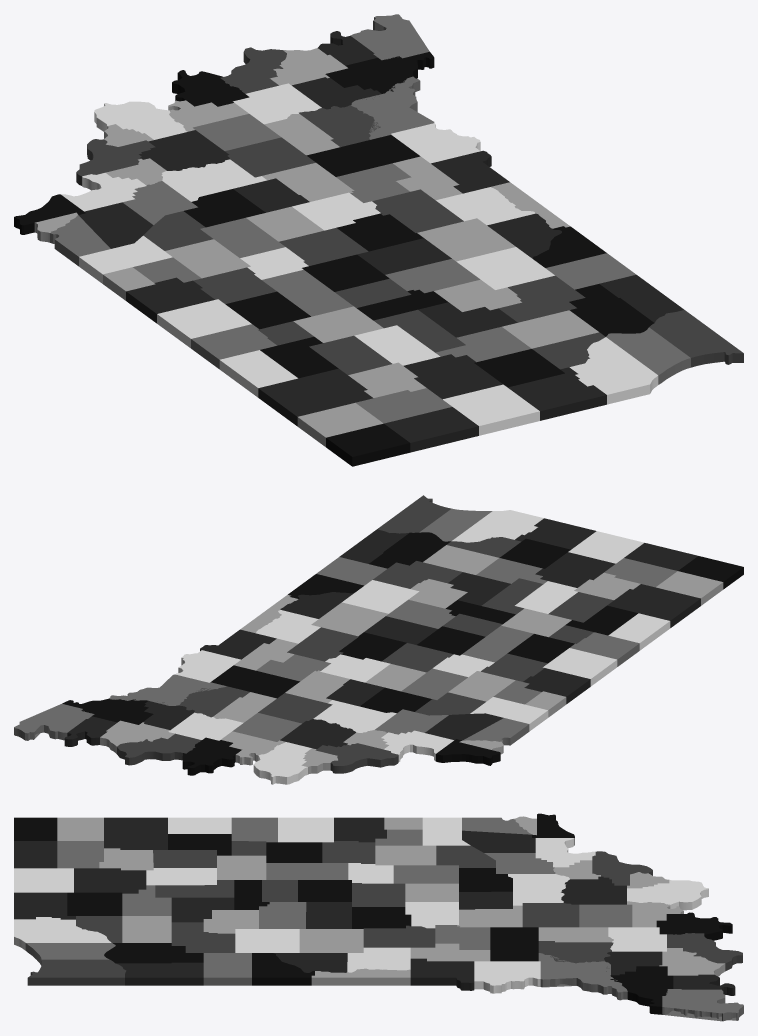
File: Indiana_Counties_3D.fbx
3 renders of one model, top to bottom at view 1: azimuth 30°, elevation 25°; view 2: azimuth 150°, elevation 25°; view 3: azimuth 270°, elevation 25°, orthographic. The views are drawn at different scales.
Visible parts, largest first — view 1: IN_Allen_County_3D, IN_LaPorte_County_3D, IN_Elkhart_County_3D, IN_St_Joseph_County_3D, IN_Lake_County_3D, IN_Knox_County_3D, IN_Kosciusko_County_3D, IN_Jasper_County_3D, IN_Greene_County_3D, IN_LaGrange_County_3D, IN_Gibson_County_3D, IN_Randolph_County_3D (+78 smaller); view 2: IN_Allen_County_3D, IN_Harrison_County_3D, IN_LaPorte_County_3D, IN_Posey_County_3D, IN_Spencer_County_3D, IN_Kosciusko_County_3D, IN_Jasper_County_3D, IN_Clark_County_3D, IN_Greene_County_3D, IN_Knox_County_3D, IN_Randolph_County_3D, IN_Perry_County_3D (+79 smaller); view 3: IN_Knox_County_3D, IN_Lake_County_3D, IN_Posey_County_3D, IN_Allen_County_3D, IN_LaPorte_County_3D, IN_Sullivan_County_3D, IN_Newton_County_3D, IN_Gibson_County_3D, IN_Kosciusko_County_3D, IN_Vigo_County_3D, IN_Harrison_County_3D, IN_Jasper_County_3D (+79 smaller).
Part boxes in pixels (box(x1,y1,x2,y2)): IN_Allen_County_3D: box(258, 368, 373, 426); IN_LaPorte_County_3D: box(569, 337, 658, 404); IN_Elkhart_County_3D: box(443, 384, 539, 435); IN_St_Joseph_County_3D: box(508, 367, 606, 420); IN_Lake_County_3D: box(649, 310, 743, 367); IN_Knox_County_3D: box(351, 76, 434, 139); IN_Kosciusko_County_3D: box(403, 354, 502, 399); IN_Jasper_County_3D: box(569, 284, 654, 336); IN_Greene_County_3D: box(306, 135, 420, 176); IN_LaGrange_County_3D: box(384, 407, 478, 452); IN_Gibson_County_3D: box(325, 51, 434, 93); IN_Randolph_County_3D: box(157, 299, 251, 348); IN_Allen_County_3D: box(607, 584, 700, 627); IN_Harrison_County_3D: box(253, 742, 311, 784); IN_LaPorte_County_3D: box(452, 510, 543, 542); IN_Posey_County_3D: box(14, 704, 94, 740); IN_Spencer_County_3D: box(117, 733, 201, 765); IN_Kosciusko_County_3D: box(535, 552, 615, 587); IN_Jasper_County_3D: box(369, 532, 450, 568); IN_Clark_County_3D: box(315, 743, 398, 773); IN_Greene_County_3D: box(211, 665, 299, 698); IN_Knox_County_3D: box(108, 674, 226, 705); IN_Randolph_County_3D: box(543, 648, 617, 686); IN_Perry_County_3D: box(182, 737, 241, 775); IN_Knox_County_3D: box(538, 953, 627, 1000); IN_Lake_County_3D: box(27, 959, 126, 985); IN_Posey_County_3D: box(662, 989, 743, 1021); IN_Allen_County_3D: box(104, 817, 167, 849); IN_LaPorte_County_3D: box(14, 917, 111, 950); IN_Sullivan_County_3D: box(474, 961, 540, 993); IN_Newton_County_3D: box(116, 962, 203, 985); IN_Gibson_County_3D: box(610, 966, 673, 1014); IN_Kosciusko_County_3D: box(74, 868, 146, 893); IN_Vigo_County_3D: box(410, 958, 474, 990); IN_Harrison_County_3D: box(627, 880, 708, 910); IN_Jasper_County_3D: box(104, 943, 203, 963).
Bounding box in the file's own units: 540 × 10 × 833.
